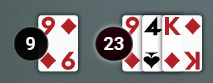4: (142, 14, 163, 40)
9: (119, 14, 142, 38), (36, 15, 59, 37)
k: (162, 14, 183, 39)
